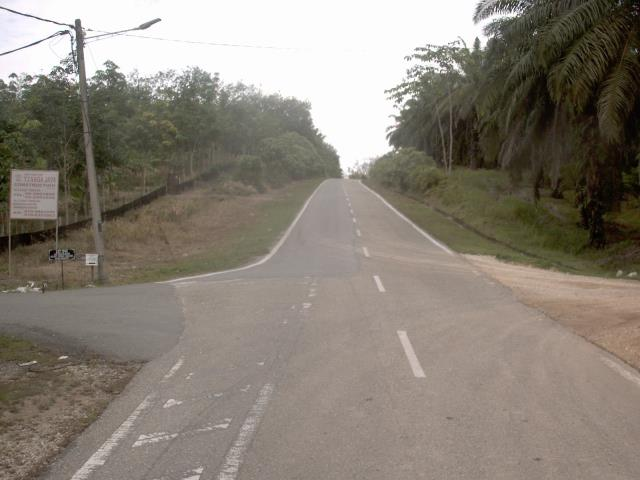ads_sign: (3, 165, 64, 226)
